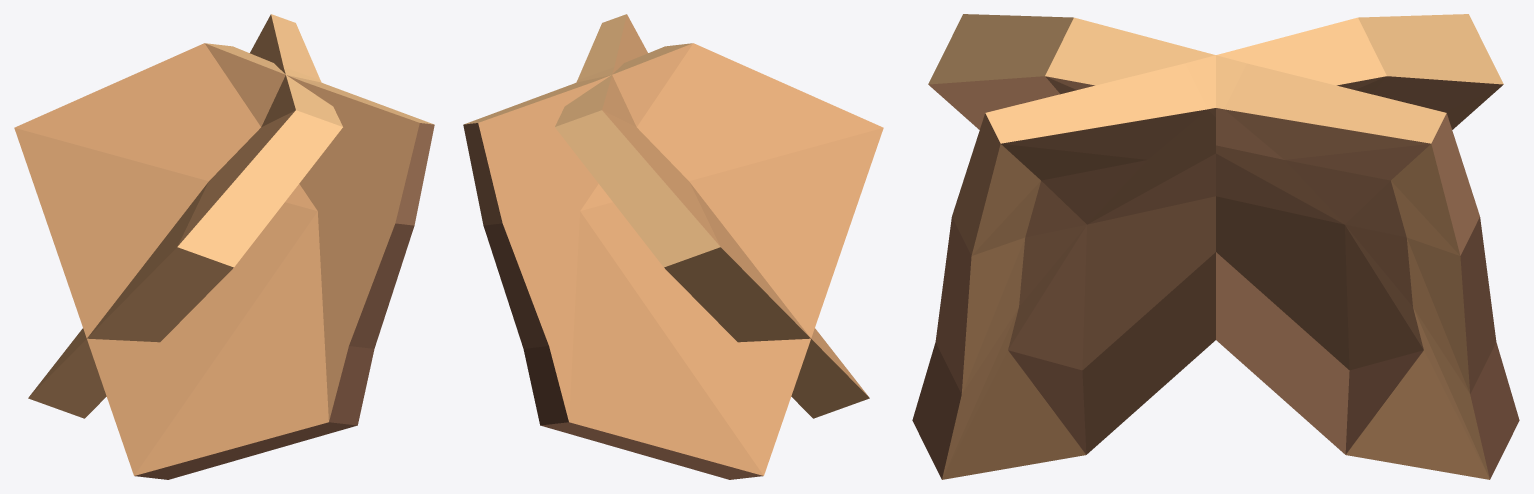
File: hf_leaf.glb
3 renders of one model, left to right at view 1: azimuth 30°, elevation 25°; view 2: azimuth 150°, elevation 25°; view 3: azimuth 270°, elevation 25°, orthographic. The views are drawn at different scales.
Visible parts, largest first — view 1: Ear_R, Ear_L; view 2: Ear_L, Ear_R; view 3: Ear_L, Ear_R.
Part boxes in pixels (x1=…): Ear_R: x1=14, y1=43, x2=434, y2=479; Ear_L: x1=28, y1=14, x2=342, y2=418; Ear_L: x1=463, y1=43, x2=883, y2=479; Ear_R: x1=555, y1=14, x2=869, y2=418; Ear_L: x1=928, y1=14, x2=1519, y2=479; Ear_R: x1=912, y1=14, x2=1503, y2=479.
Bounding box in the file's own units: 0.0419 × 0.0482 × 0.05.
1 material, 1 textured.
